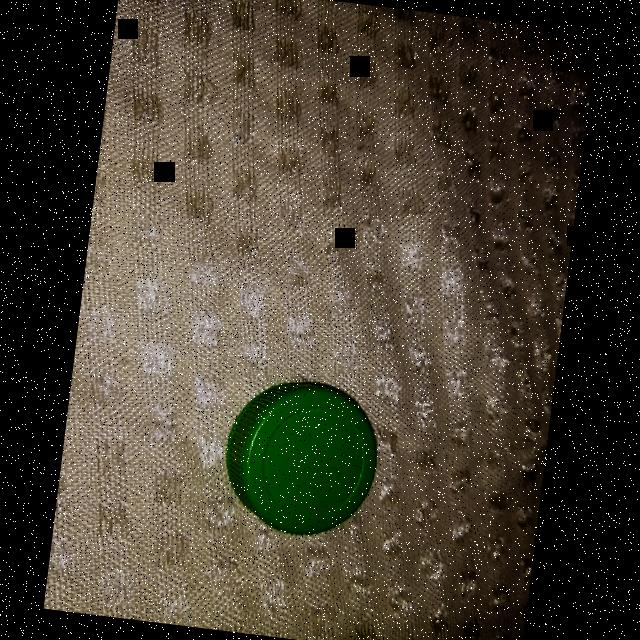plastic_bottle_cap: (217, 372, 385, 542)
